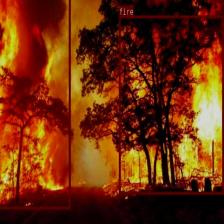fire: (118, 15, 224, 194), (0, 0, 70, 208)
